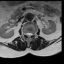CCS_normal: (28, 31, 30, 39)
LFS_stenosis: (32, 31, 34, 37)
LLS_normal: (30, 31, 32, 38)
RFS_stenosis: (24, 31, 26, 36)
RLS_normal: (26, 31, 28, 38)
